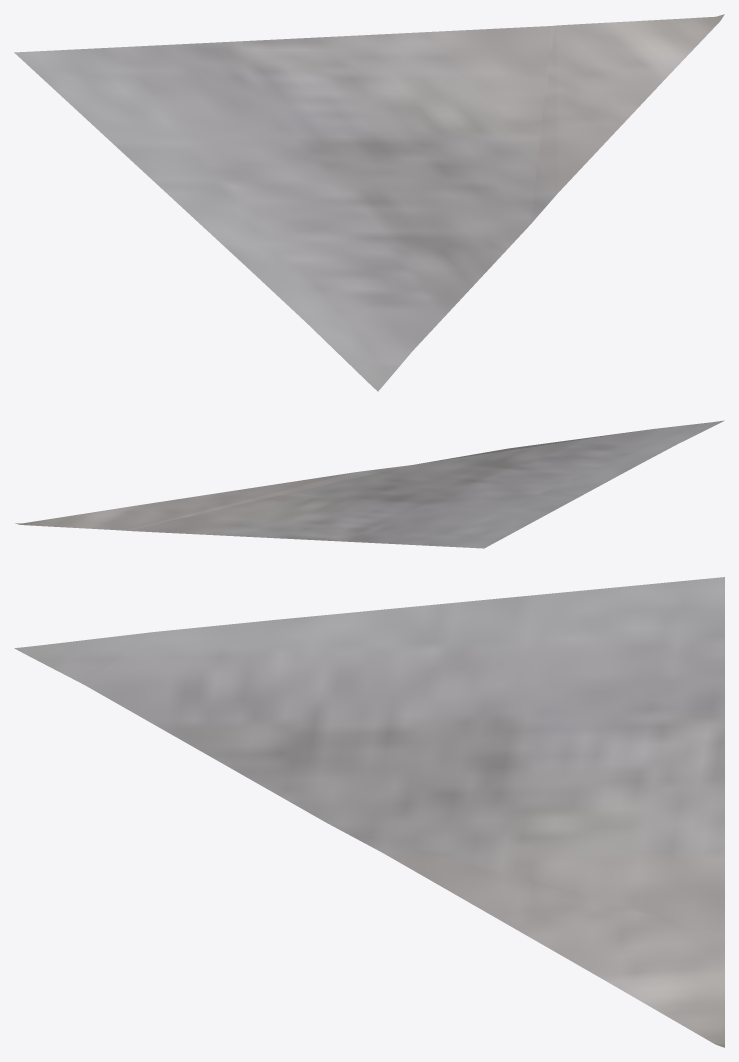
3 renders of one model, top to bottom at view 1: azimuth 30°, elevation 25°; view 2: azimuth 150°, elevation 25°; view 3: azimuth 270°, elevation 25°, orthographic. The views are drawn at different scales.
Size of the model in its own units: 2.74 by 0.5018 by 2.43.
1 material, 1 textured.
